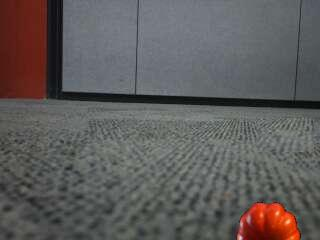Pumpkin: (234, 200, 302, 240)
